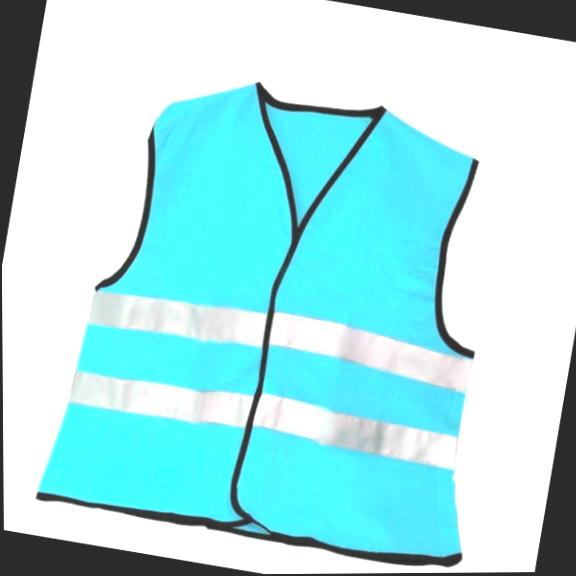safety_vest: (24, 48, 536, 576)
